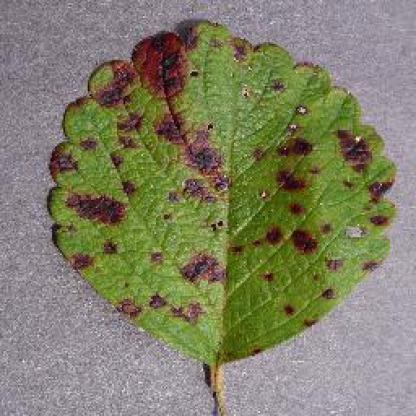leaf scorch: (32, 10, 406, 404)
